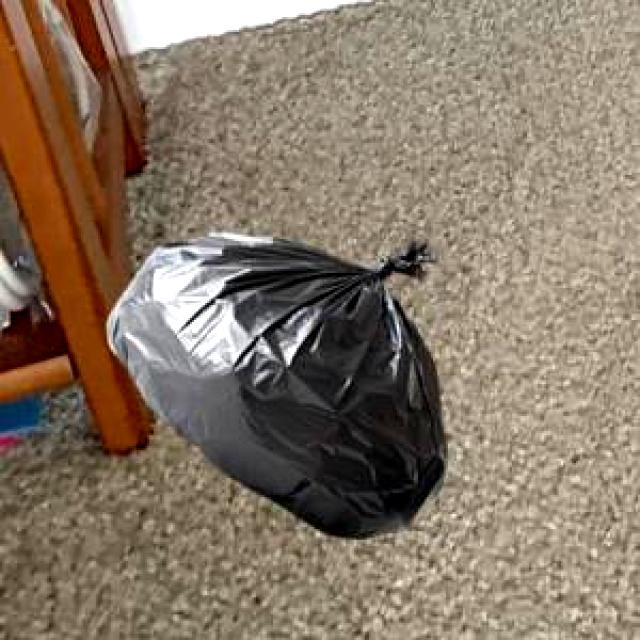Garbage_Bag: (103, 229, 444, 536)
